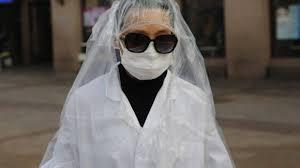Wearing Mask: (99, 0, 192, 85)
